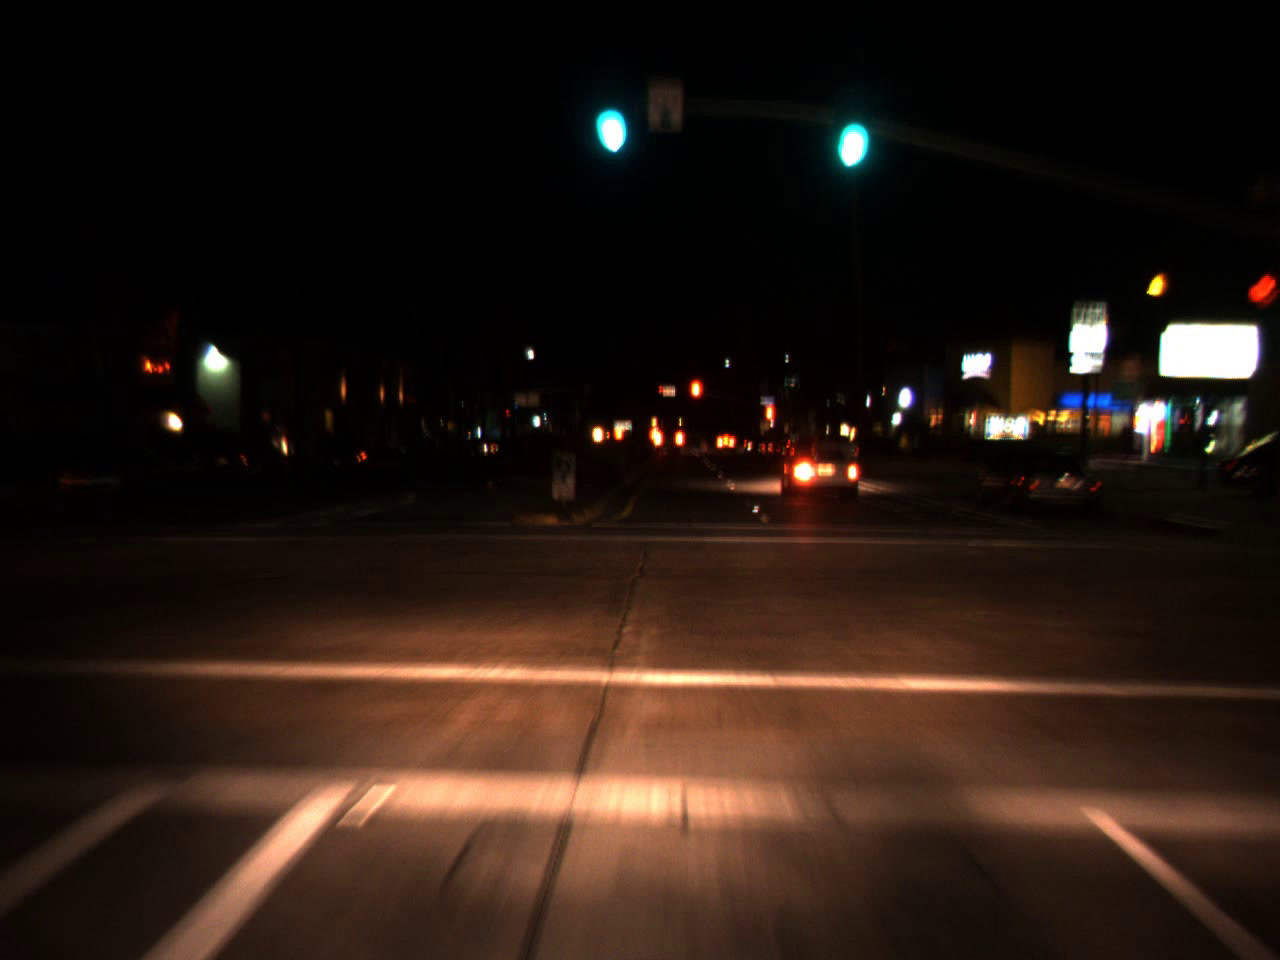go: (585, 76, 633, 160), (826, 89, 872, 176)
stop: (688, 375, 703, 419), (764, 402, 776, 439)
